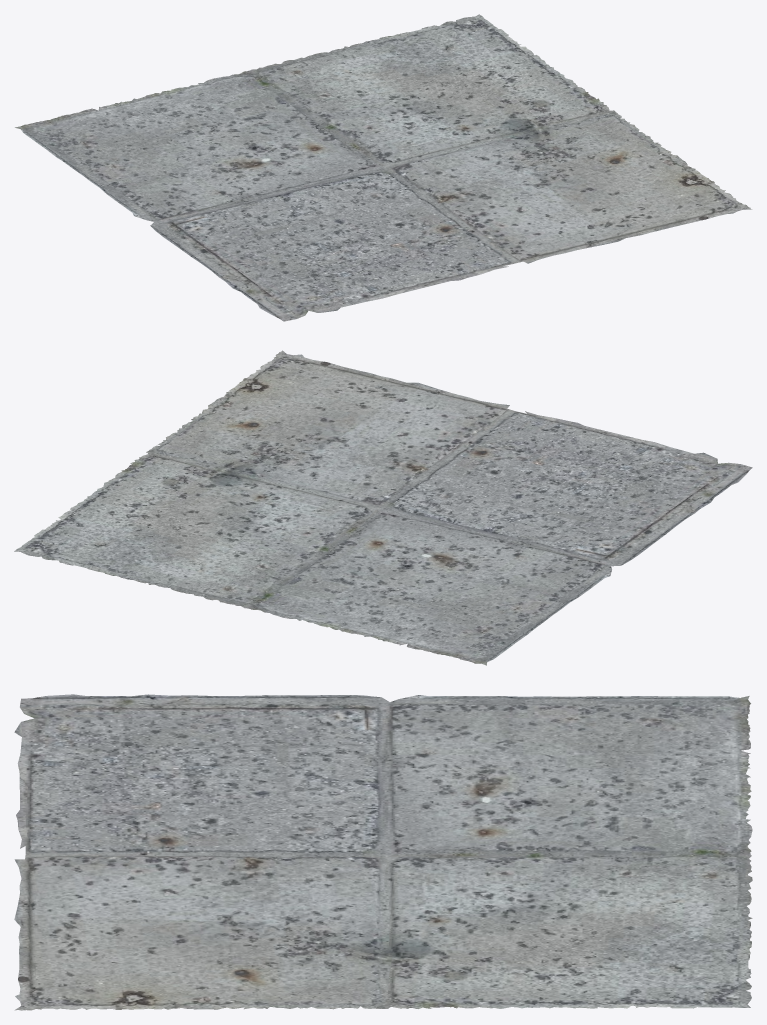
File: concrete_Floor.fbx
3 views of the same model, one above another, from view 1: azimuth 30°, elevation 25°; view 2: azimuth 150°, elevation 25°; view 3: azimuth 270°, elevation 25° (orthographic). The views are drawn at different scales.
Parts seen in each view (by area): view 1: floor_4x4_free; view 2: floor_4x4_free; view 3: floor_4x4_free.
Boxes of the visible parts, box(x1,y1,x2,y2) form: floor_4x4_free: box(15, 14, 752, 321); floor_4x4_free: box(14, 350, 752, 665); floor_4x4_free: box(14, 694, 752, 1010).
Bounding box in the file's own units: 1180 × 4.31 × 1169.
Materials: 1 (1 with a texture image).
